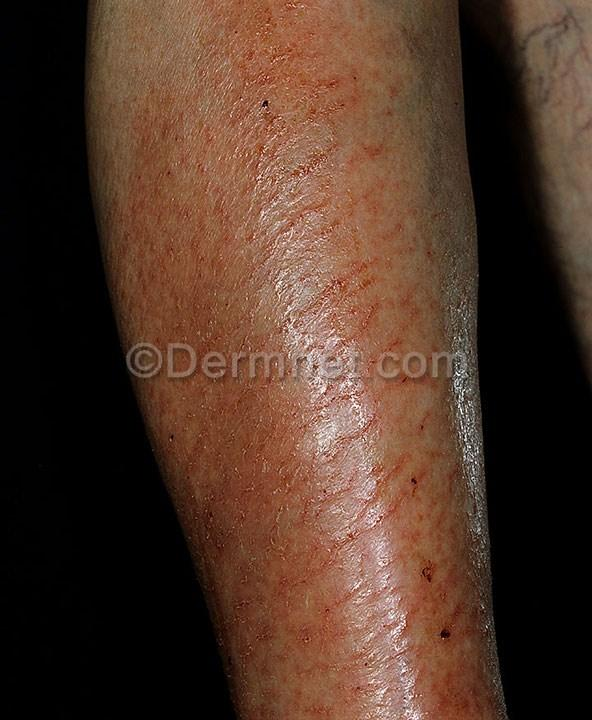Eczema: (206, 60, 462, 297), (239, 439, 458, 678)
